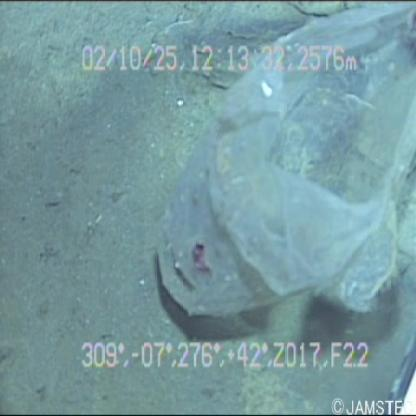Rác: (129, 2, 415, 348)
